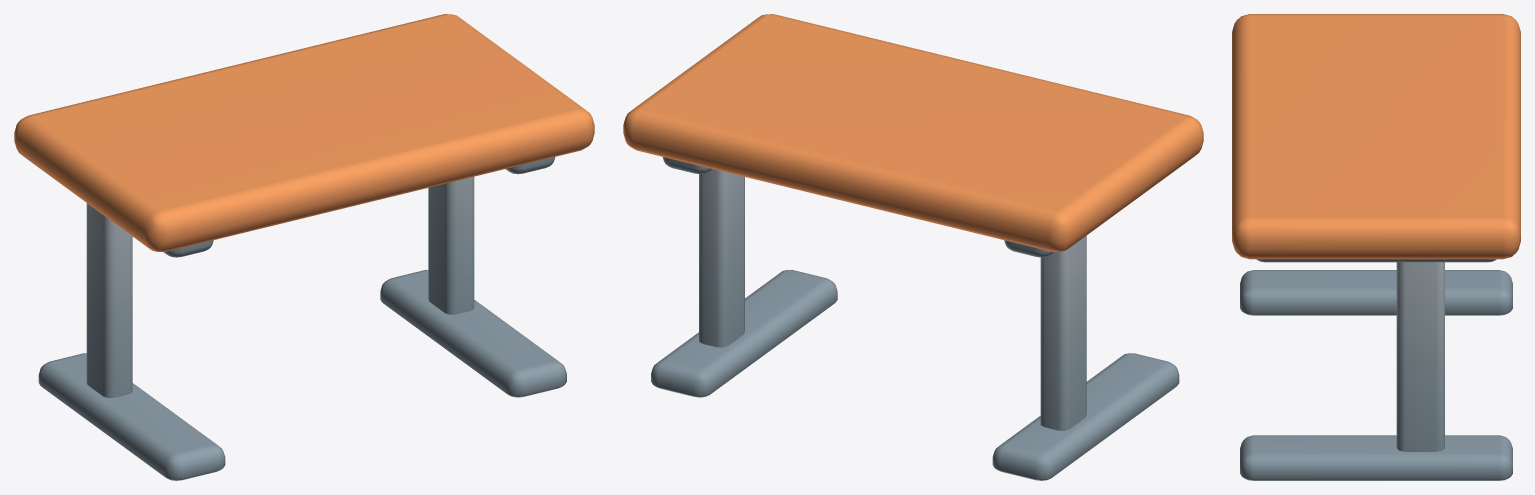
Rendered from Work_Table_06.glb.
The picture shows the model from 3 angles, left to right: view 1: azimuth 30°, elevation 25°; view 2: azimuth 150°, elevation 25°; view 3: azimuth 270°, elevation 25°; orthographic projection.
Visible parts, largest first — view 1: Work_Table_06; view 2: Work_Table_06; view 3: Work_Table_06.
Part boxes in pixels (<box>): Work_Table_06: <box>14,14,594,480</box>; Work_Table_06: <box>623,14,1203,480</box>; Work_Table_06: <box>1232,14,1520,480</box>.
Size of the model in its own units: 1.31 by 0.76 by 0.7371.
Materials: 1 (1 with a texture image).
